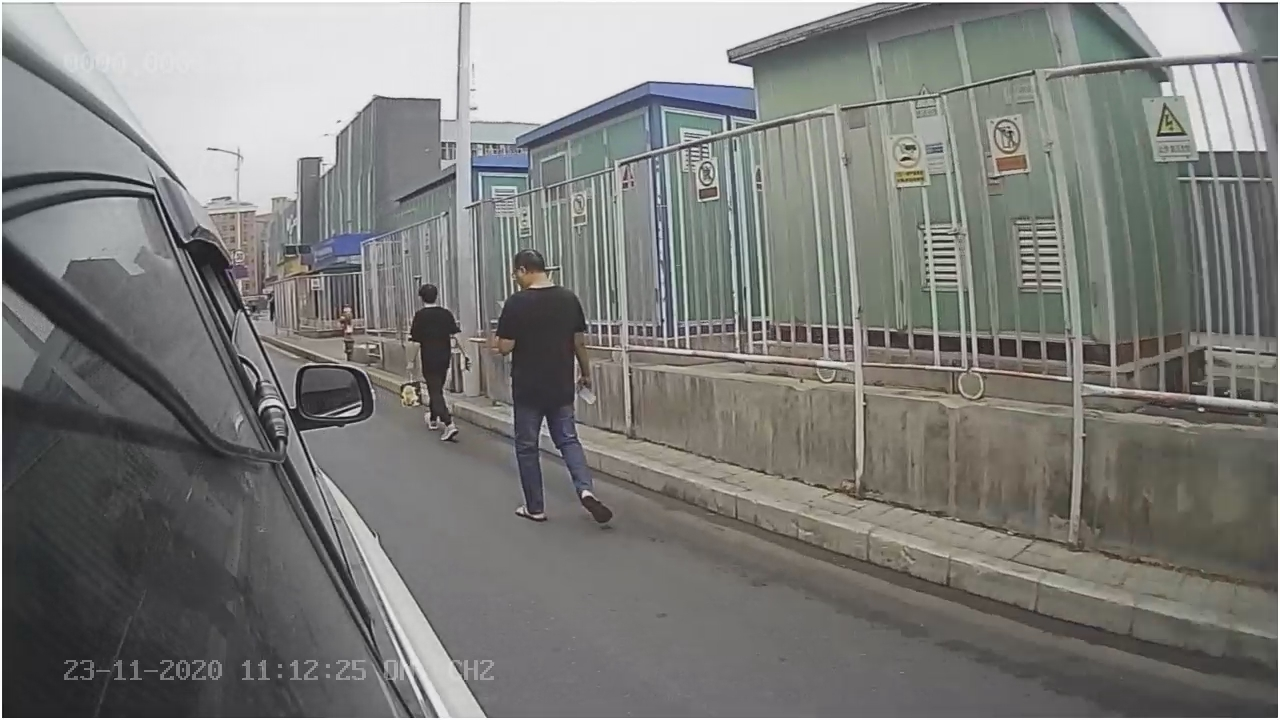person: (494, 253, 617, 528)
